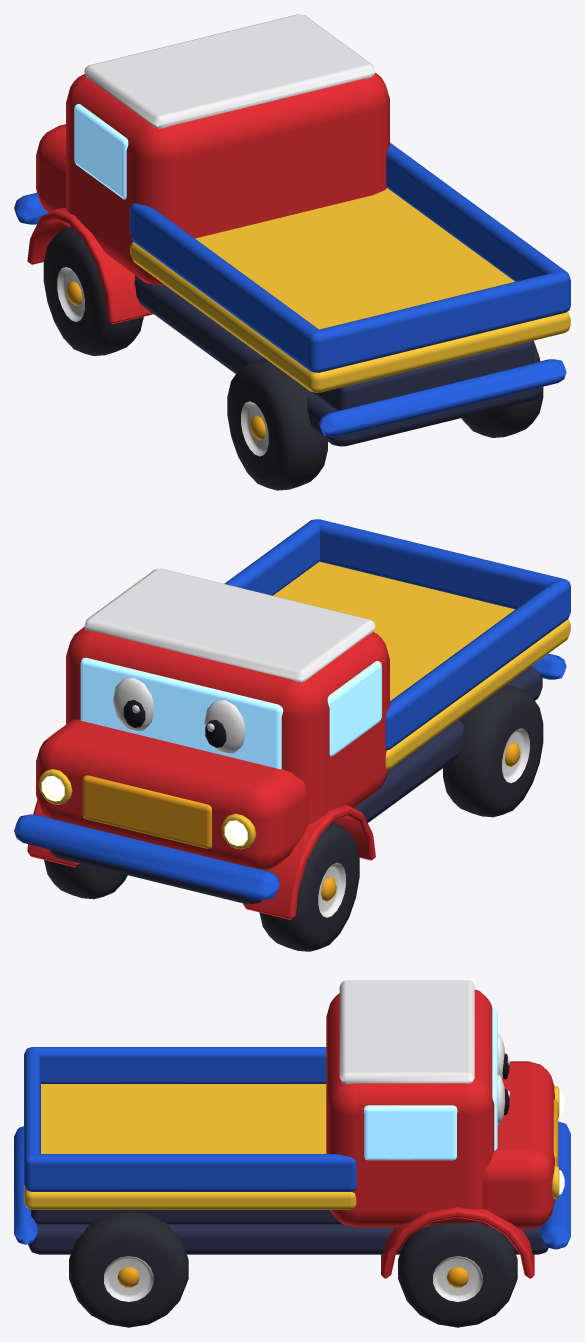
Rendered from truck.glb.
3 renders of one model, top to bottom at view 1: azimuth 30°, elevation 25°; view 2: azimuth 150°, elevation 25°; view 3: azimuth 270°, elevation 25°, orthographic. The views are drawn at different scales.
Visible parts, largest first — view 1: truck_body, wheel_rl, wheel_fl, wheel_rr; view 2: truck_body, wheel_rl, wheel_fl, wheel_fr; view 3: truck_body, wheel_rr, wheel_fr.
Boxes of the visible parts, x1,y1,x2,y2 form: truck_body: (14, 14, 570, 446); wheel_rl: (227, 357, 327, 490); wheel_fl: (43, 227, 143, 355); wheel_rr: (461, 340, 543, 437); truck_body: (14, 519, 570, 919); wheel_rl: (443, 684, 543, 817); wheel_fl: (259, 823, 359, 951); wheel_fr: (44, 860, 127, 899); truck_body: (14, 980, 570, 1278); wheel_rr: (69, 1211, 188, 1327); wheel_fr: (398, 1222, 517, 1327).
Bounding box in the file's own units: 1.64 × 1.64 × 3.3.
